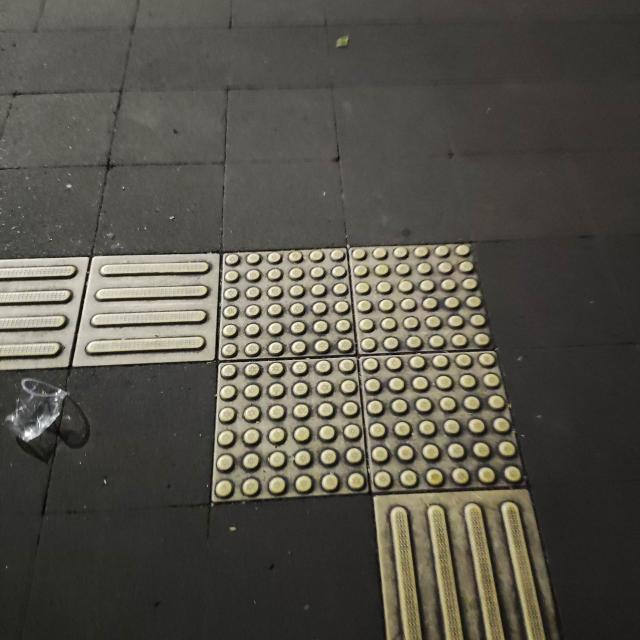kiri: (54, 235, 572, 610)
